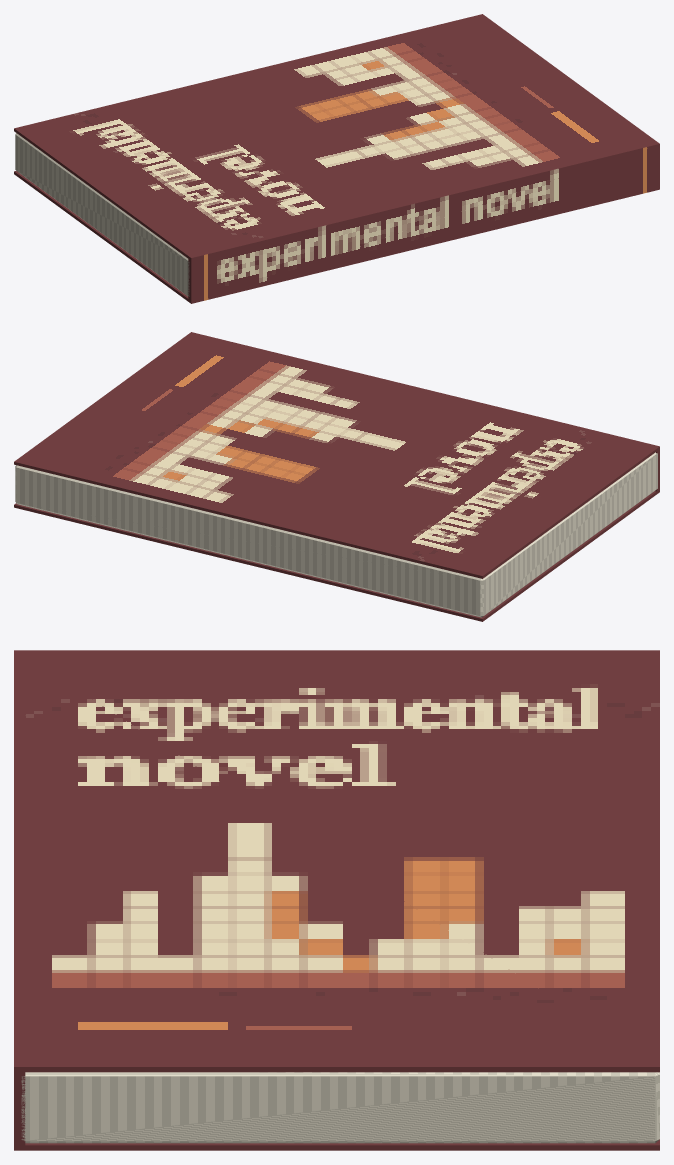
File: novel_experimental.glb
3 renders of one model, top to bottom at view 1: azimuth 30°, elevation 25°; view 2: azimuth 150°, elevation 25°; view 3: azimuth 270°, elevation 25°, orthographic. The views are drawn at different scales.
Parts seen in each view (by area): view 1: block_front, block_spine, block_pages, block_back; view 2: block_front, block_pages, block_back, block_spine; view 3: block_front, block_pages, block_back, block_spine.
Part boxes in pixels (x1,y1,x2,y2): block_front: (14,14,656,259); block_spine: (188,141,659,303); block_pages: (15,133,189,296); block_back: (14,171,190,302); block_front: (14,332,659,578); block_pages: (15,452,657,617); block_back: (14,490,659,621); block_spine: (188,332,659,492); block_front: (16,650,659,1072); block_pages: (21,1072,659,1143); block_back: (17,1139,659,1150); block_spine: (14,650,25,1150).
Size of the model in its own units: 0.18 by 0.0168 by 0.1179.
1 material, 1 textured.
